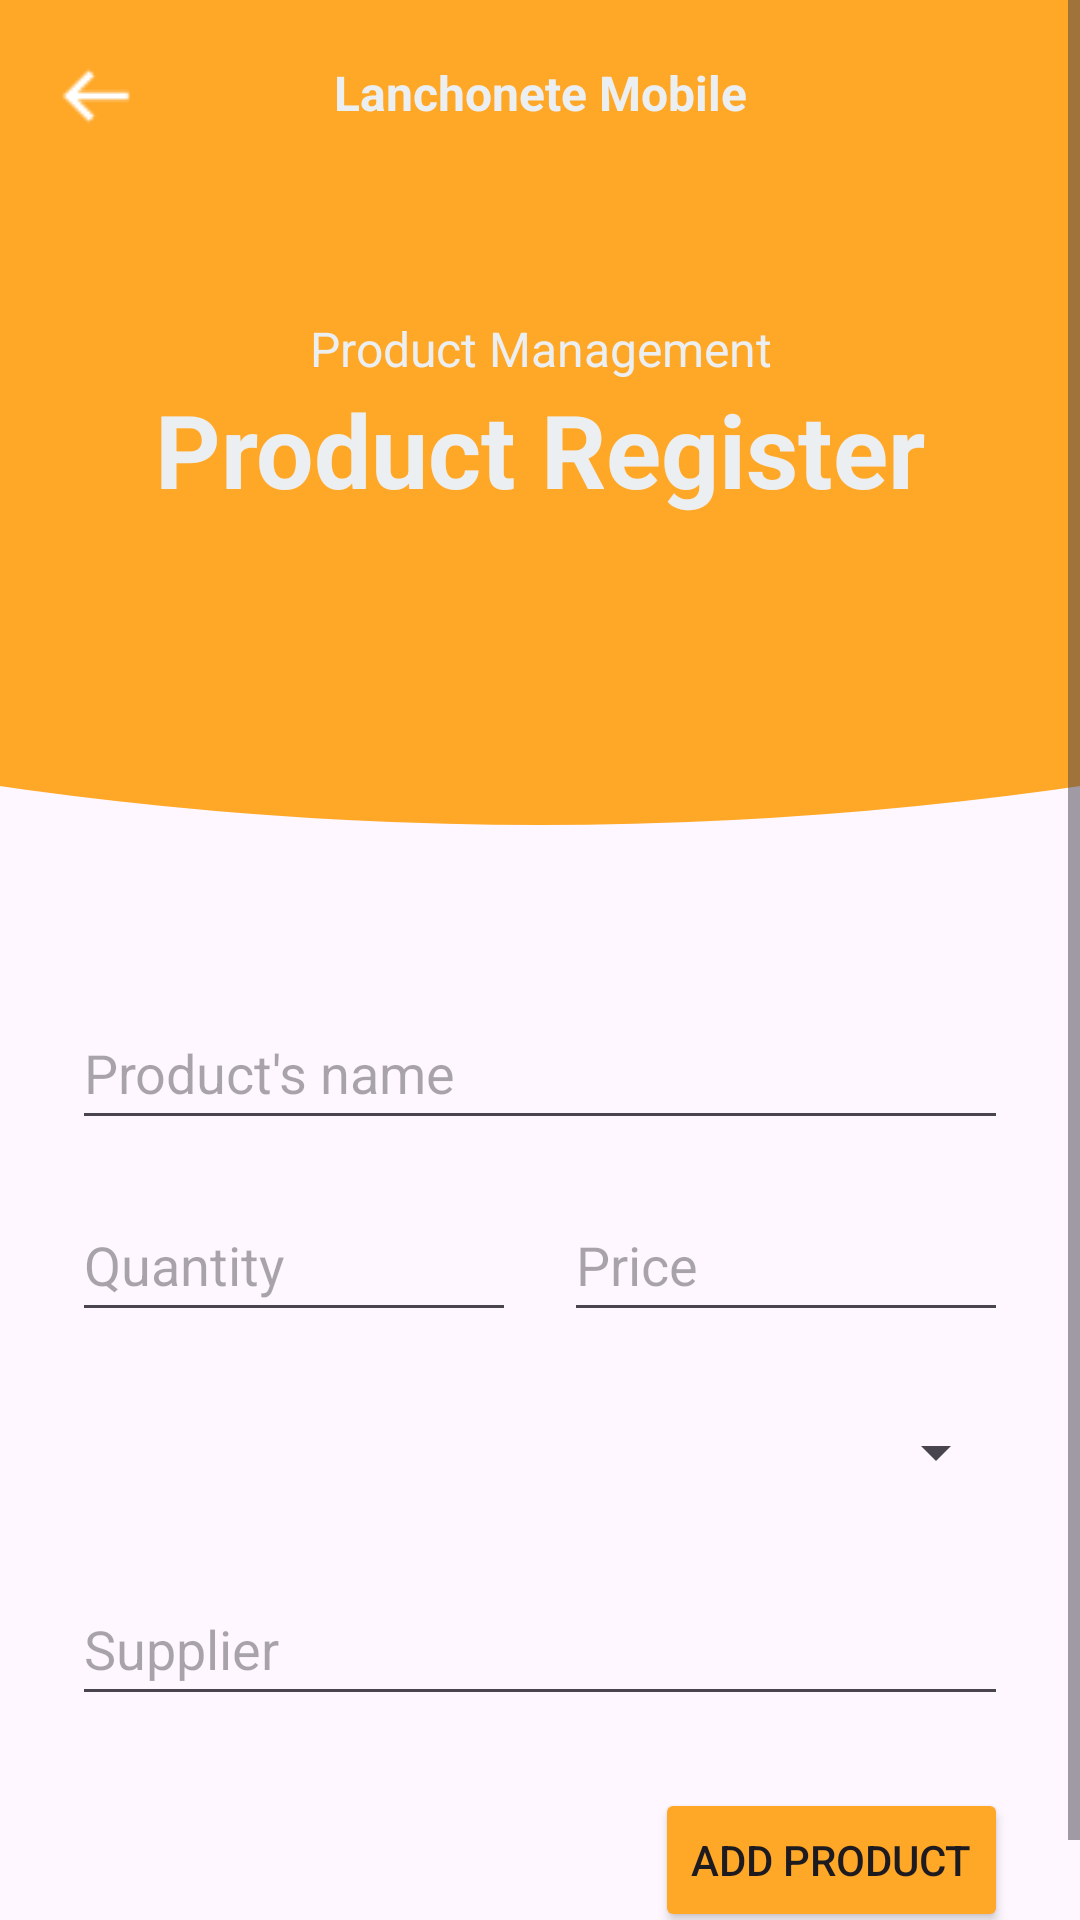

Point at icon controls on the screen. Image size 1080w x 1920h, points as (x,y).
Back: (96,96)
